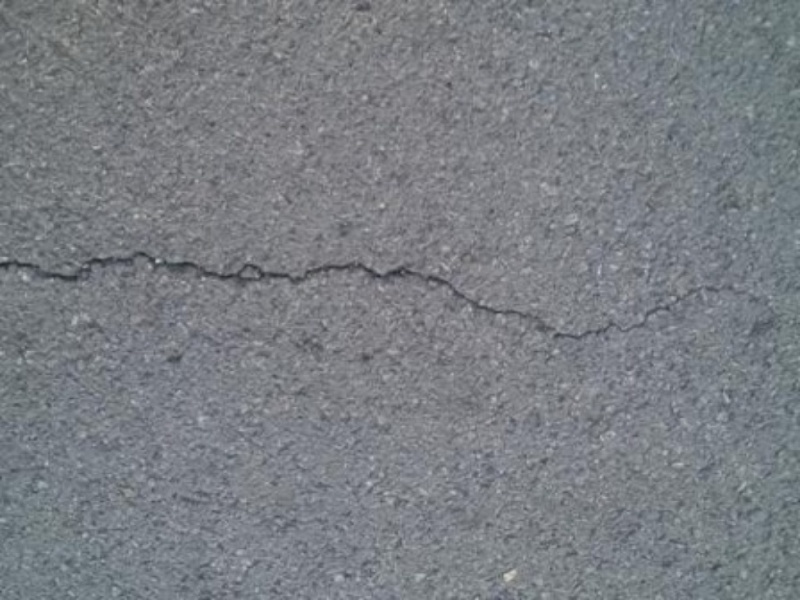crack: (19, 221, 758, 377)
